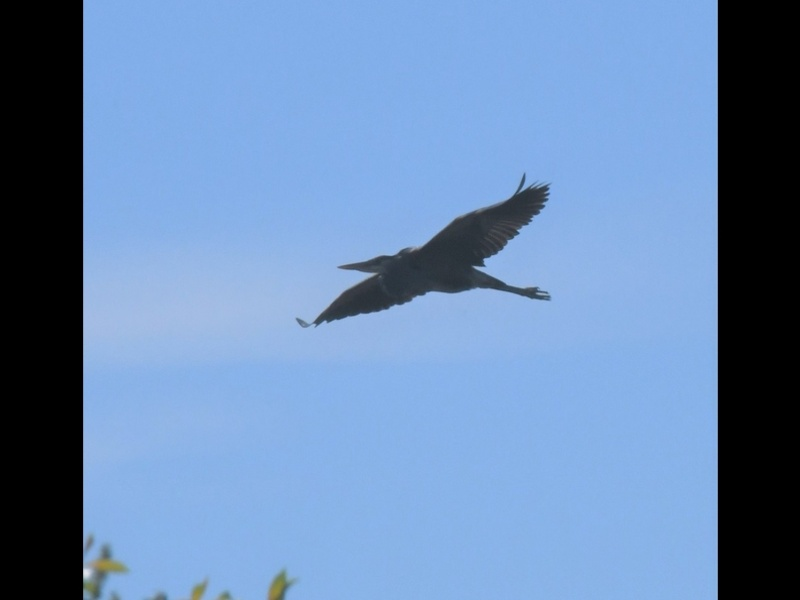heron: (295, 172, 553, 334)
